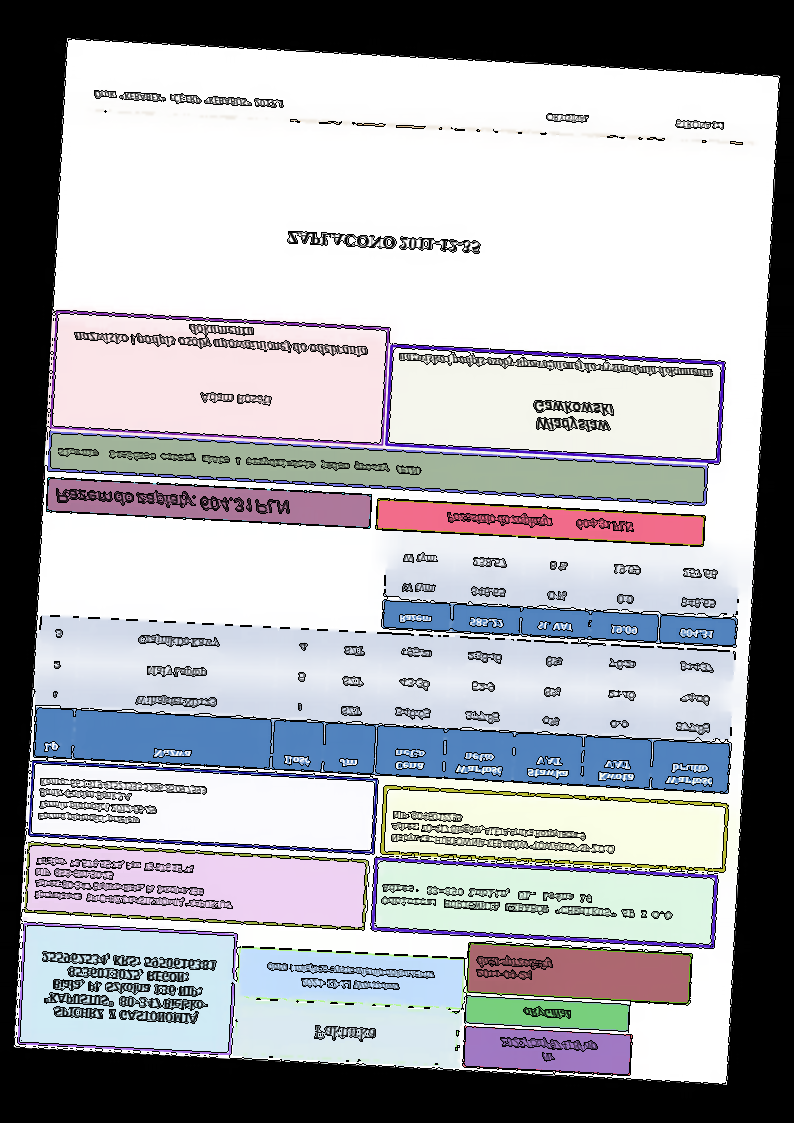Table: (33, 614, 736, 794), (382, 537, 741, 647)
TextBox: (36, 950, 218, 1026), (380, 881, 680, 924), (71, 317, 369, 359), (55, 445, 425, 478), (32, 855, 238, 911), (389, 809, 620, 856), (397, 348, 715, 381), (36, 776, 209, 830), (51, 484, 295, 517), (262, 960, 436, 996), (285, 228, 484, 257), (443, 509, 636, 535), (91, 87, 286, 111), (494, 1032, 599, 1067), (531, 398, 615, 437), (473, 952, 555, 982), (312, 1023, 378, 1044), (197, 390, 272, 408), (520, 1004, 574, 1022), (673, 117, 726, 131), (543, 111, 590, 125)
